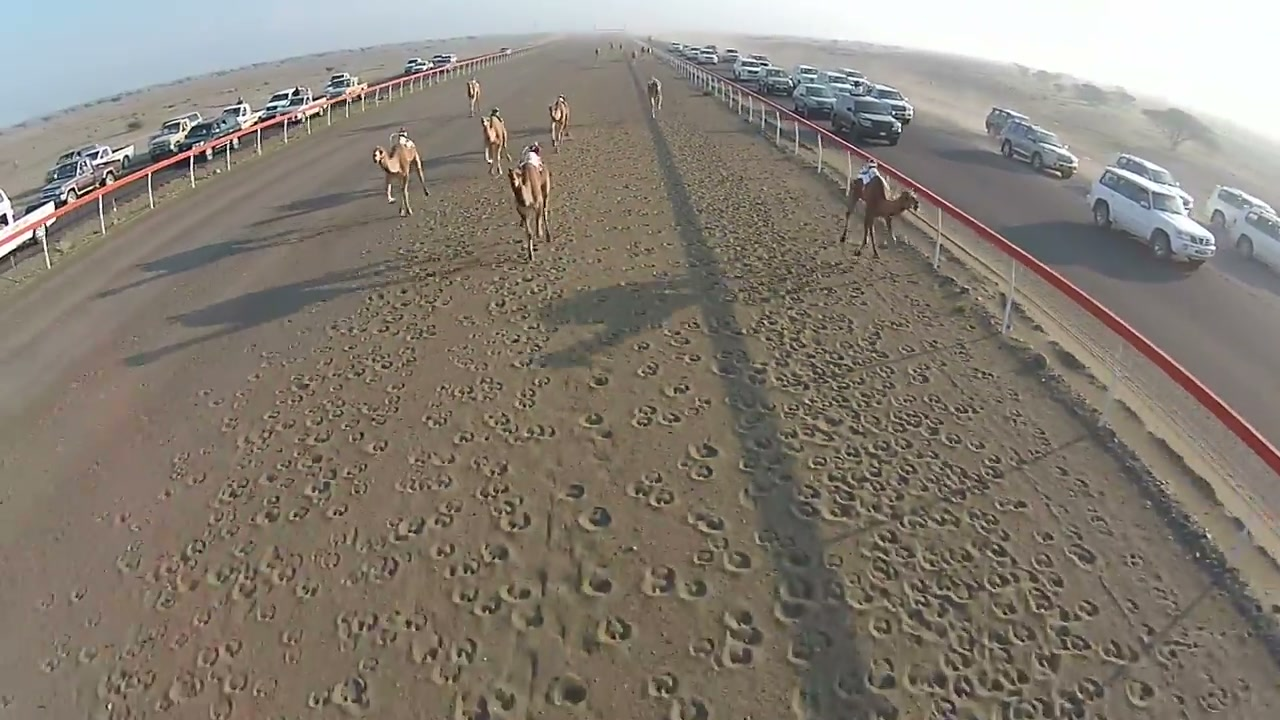animal_footprint: (3, 67, 1279, 719)
